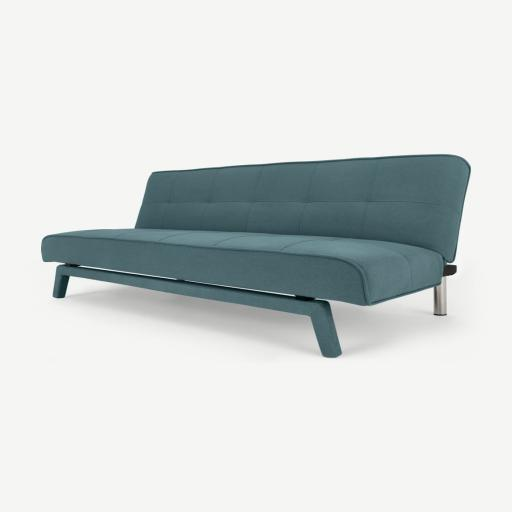back_cushion: (136, 155, 469, 262)
base: (54, 265, 341, 357)
legs: (311, 303, 341, 357), (434, 277, 447, 315), (56, 277, 68, 298)
one-seater: (41, 154, 470, 357)
seat_cushion: (42, 229, 443, 305)
